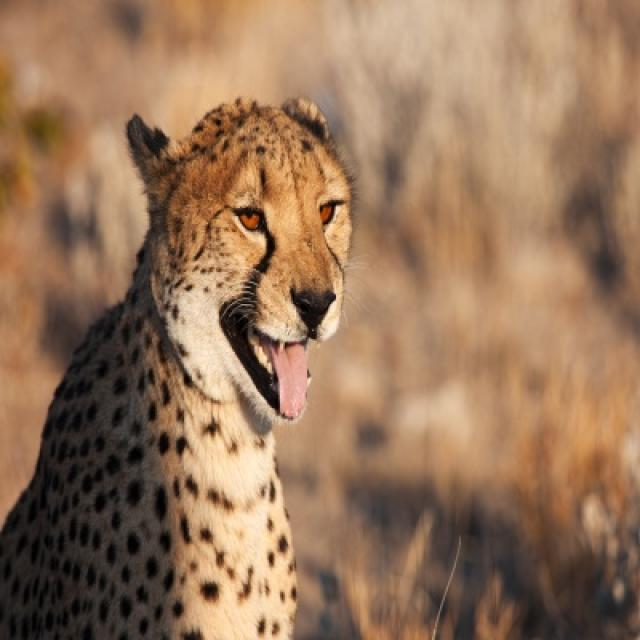Cheetah: (0, 98, 354, 638)
